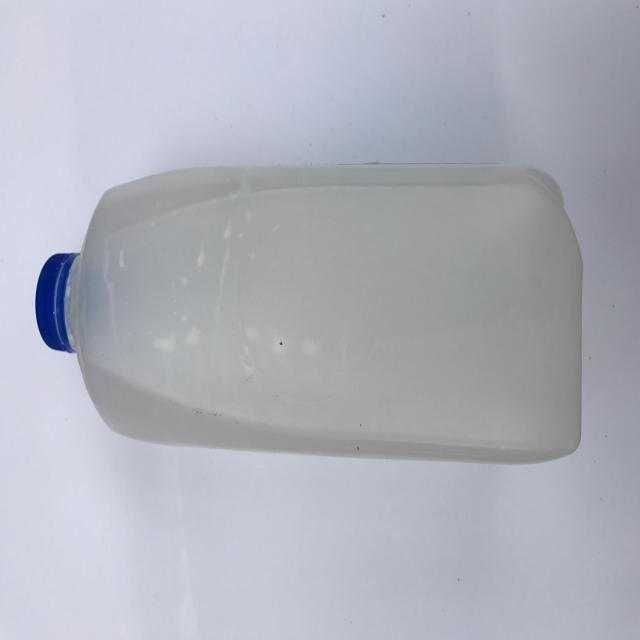plastic: (36, 162, 584, 465)
